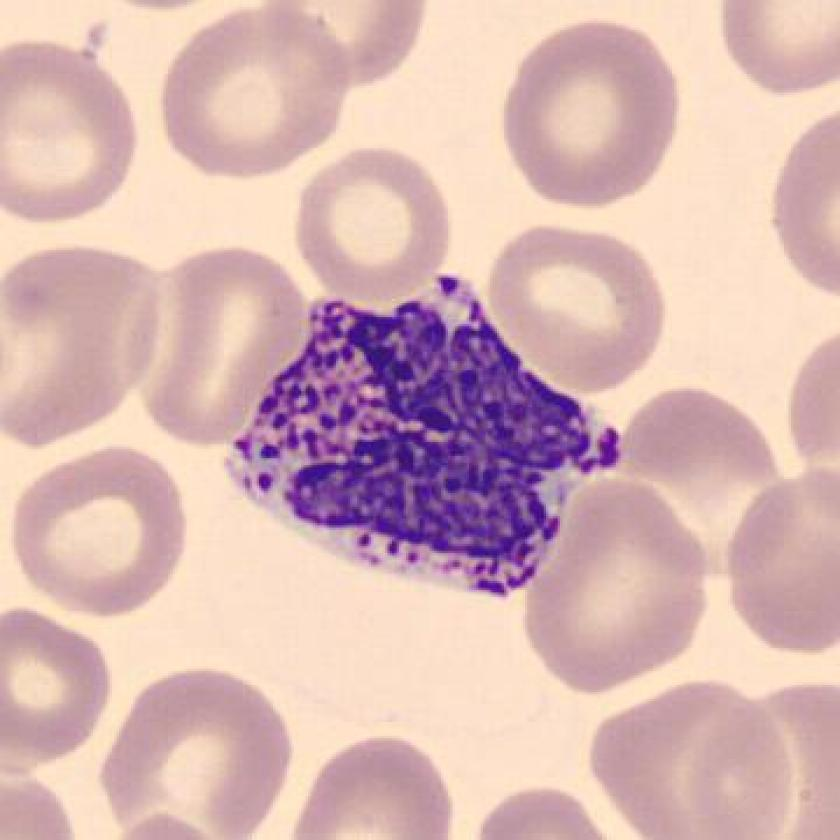basophil: (230, 286, 624, 596)
